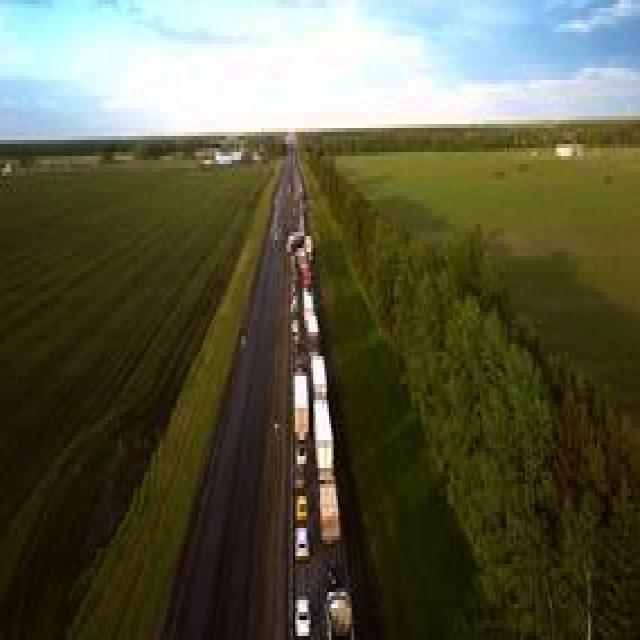traffic_incident: (277, 216, 320, 268)
